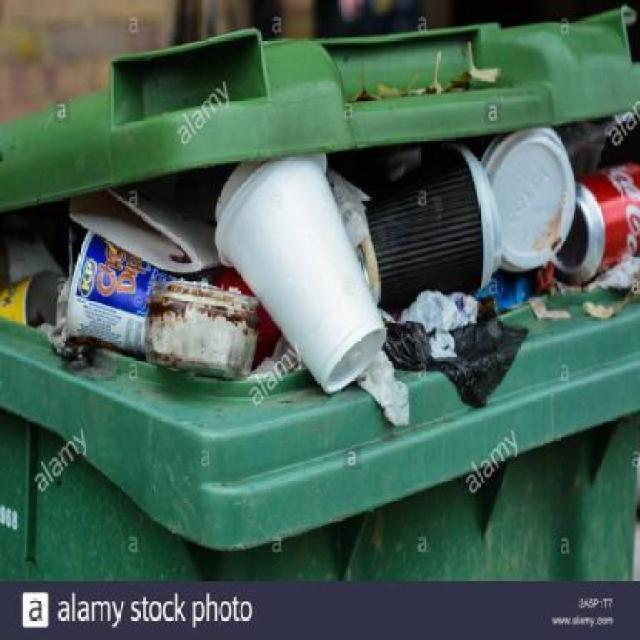garbage: (36, 179, 396, 385), (380, 143, 636, 294)
